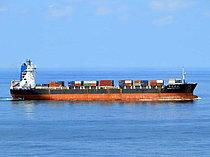Ship: (9, 55, 200, 105)
